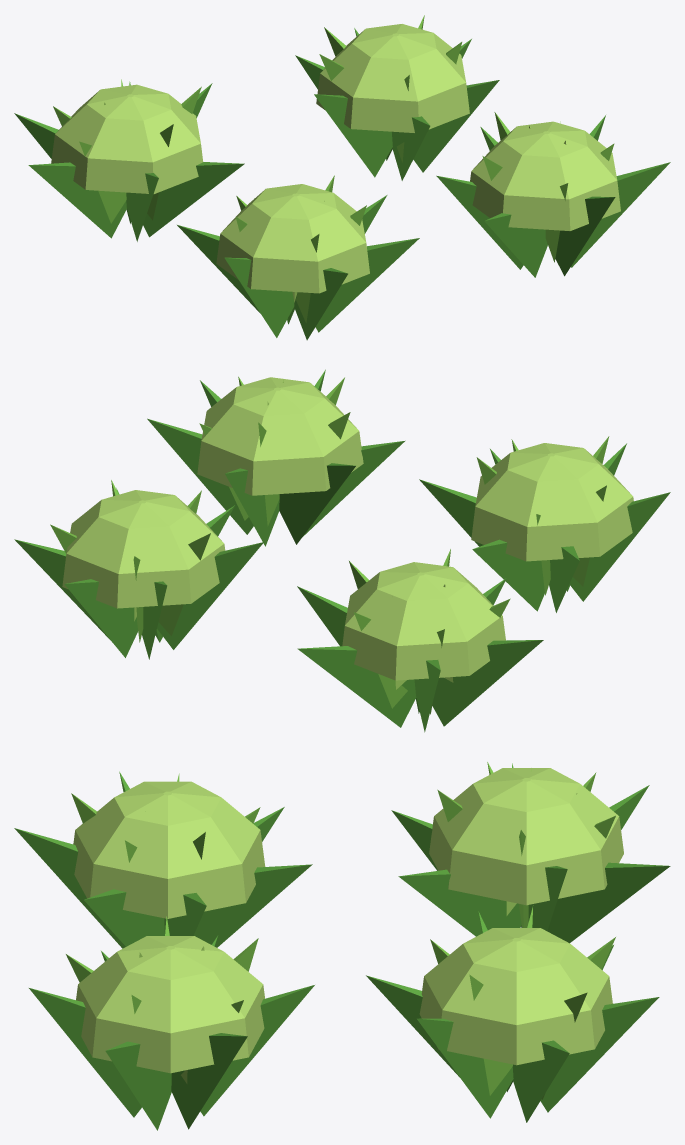
The model's file is lettuce-4.glb.
3 views of the same model, one above another, from view 1: azimuth 30°, elevation 25°; view 2: azimuth 150°, elevation 25°; view 3: azimuth 270°, elevation 25° (orthographic). The views are drawn at different scales.
Parts seen in each view (by area): view 1: lettuce-4; view 2: lettuce-4; view 3: lettuce-4.
Boxes of the visible parts, x1,y1,x2,y2 form: lettuce-4: [14, 15, 670, 340]; lettuce-4: [14, 369, 670, 732]; lettuce-4: [14, 762, 670, 1130].
Bounding box in the file's own units: 0.7656 × 0.2104 × 0.7225.
1 material, 1 textured.
